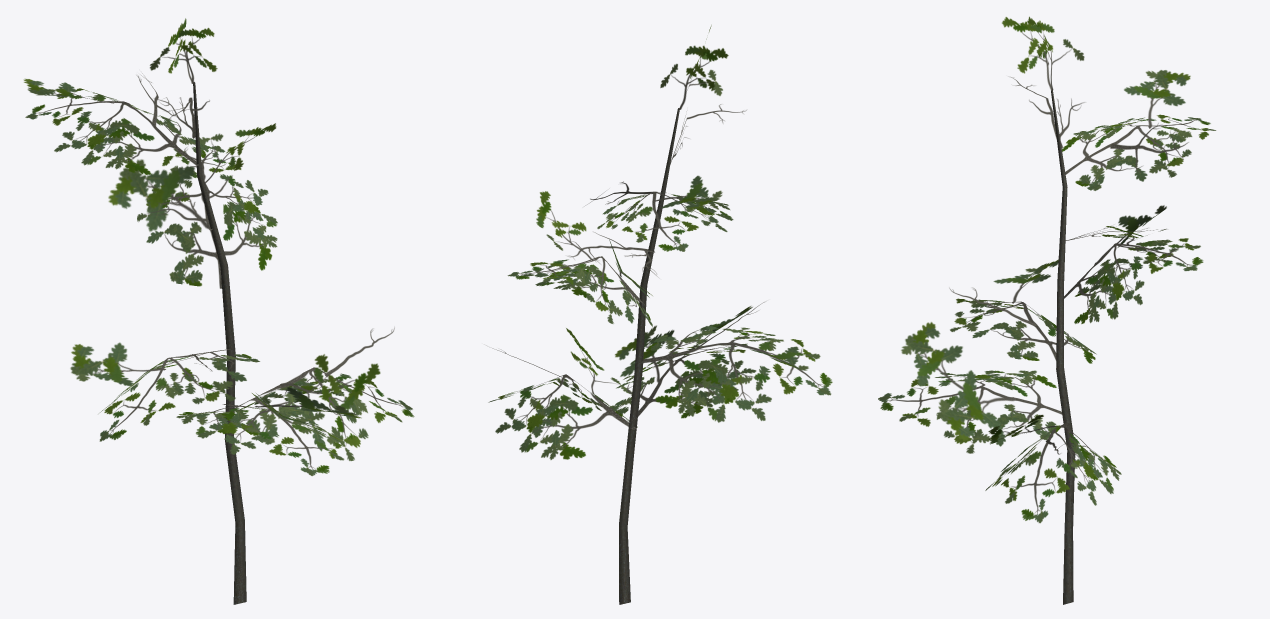
File: oak_sapling_1.glb
The picture shows the model from 3 angles, left to right: view 1: azimuth 30°, elevation 25°; view 2: azimuth 150°, elevation 25°; view 3: azimuth 270°, elevation 25°; orthographic projection. The views are drawn at different scales.
Visible parts, largest first — view 1: Sapling_oak_tree_001_LOD1_Cluster_Mat_0, Sapling_oak_tree_001_LOD1_Bark_Mat_0; view 2: Sapling_oak_tree_001_LOD1_Cluster_Mat_0, Sapling_oak_tree_001_LOD1_Bark_Mat_0; view 3: Sapling_oak_tree_001_LOD1_Cluster_Mat_0, Sapling_oak_tree_001_LOD1_Bark_Mat_0.
Boxes of the visible parts, box(x1,y1,x2,y2) form: Sapling_oak_tree_001_LOD1_Cluster_Mat_0: box(24, 18, 414, 475); Sapling_oak_tree_001_LOD1_Bark_Mat_0: box(193, 82, 246, 604); Sapling_oak_tree_001_LOD1_Cluster_Mat_0: box(486, 25, 832, 459); Sapling_oak_tree_001_LOD1_Bark_Mat_0: box(619, 108, 679, 604); Sapling_oak_tree_001_LOD1_Cluster_Mat_0: box(878, 16, 1216, 523); Sapling_oak_tree_001_LOD1_Bark_Mat_0: box(1051, 90, 1075, 604).
Bounding box in the file's own units: 0.7001 × 1.14 × 0.6977.
2 materials, 2 textured.
